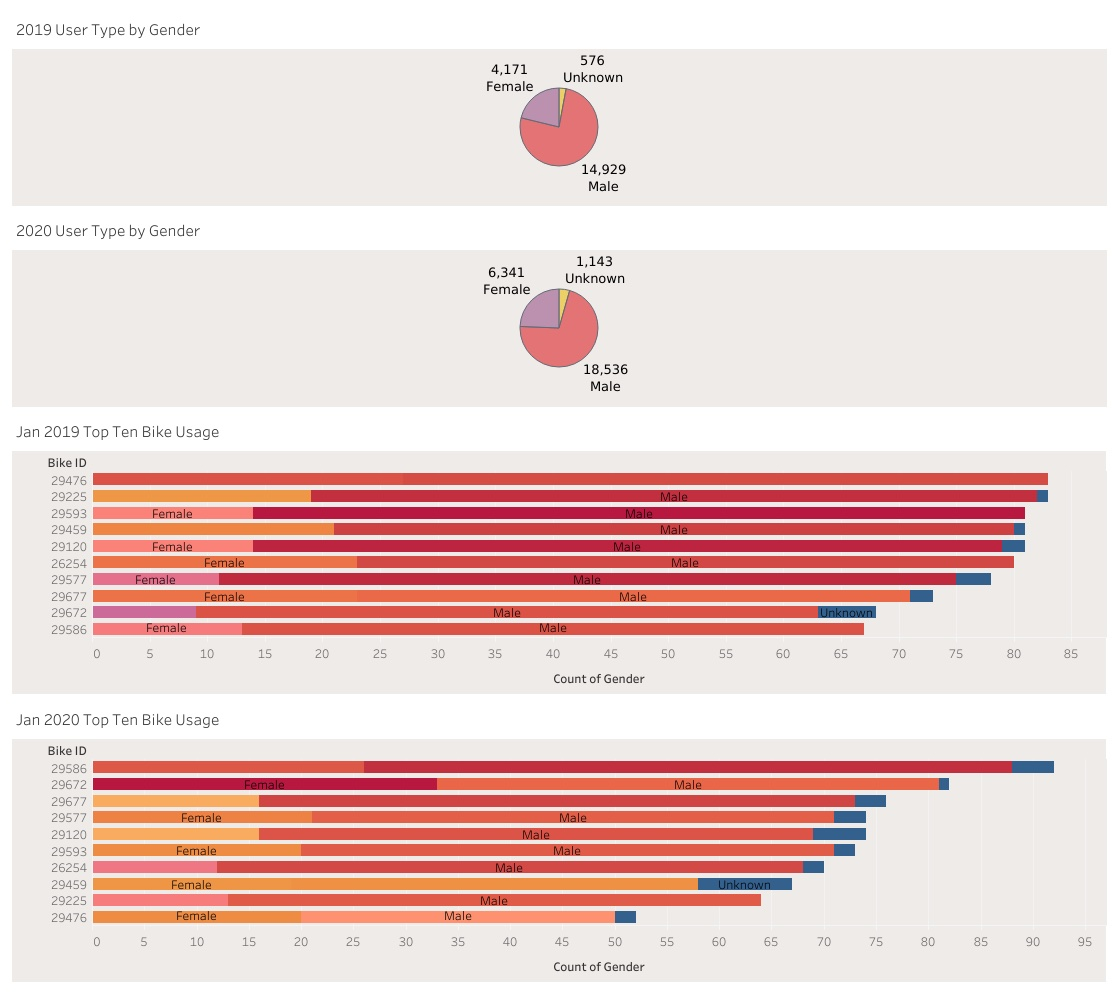

The page's visual inventory and layout, read from the dashboard file:
{"tool":"tableau","page":{"name":"Gender Analysis","canvas":[650,860],"ordinal":1},"visuals":[{"type":"worksheet","box":[0,0,650,860]},{"type":"worksheet","param":"horz","box":[8,8.5,634,843]},{"type":"worksheet","param":"horz","box":[8,8.5,634,843]},{"type":"worksheet","param":"horz","box":[8,8.5,634,843]},{"type":"worksheet","box":[8,8.5,634,843]},{"type":"worksheet","param":"horz","box":[8,8.5,634,524.8]},{"type":"worksheet","param":"horz","box":[8,8.5,634,524.8]},{"type":"worksheet","param":"horz","box":[8,8.5,634,524.8]},{"type":"worksheet","box":[8,8.5,634,524.8]},{"type":"worksheet","title":"2019 Users - Gender ","mark":"Pie","box":[8,8.5,317,202.6]},{"type":"worksheet","title":"2020 Users - Gender","mark":"Pie","box":[325,8.5,317,202.6]},{"type":"worksheet","title":"Top Ten Bike Gender 2019","mark":"Automatic","rows":["Bike ID"],"cols":["Gender"],"box":[8,211.1,634,322.1]},{"type":"worksheet","title":"Top Ten Bike Gender 2020","mark":"Automatic","rows":["Bike ID"],"cols":["Gender"],"box":[8,533.3,634,318.2]}]}

Visuals, with their boxes on the page's 650x860 design canvas (x1, y1, x2, y2). These are canvas units, not pixel positions in the 1117x999 screenshot, which may show the page scaled, cropped or inside an application window:
worksheet: (x1=0, y1=0, x2=650, y2=860)
worksheet: (x1=8, y1=8, x2=642, y2=852)
worksheet: (x1=8, y1=8, x2=642, y2=852)
worksheet: (x1=8, y1=8, x2=642, y2=852)
worksheet: (x1=8, y1=8, x2=642, y2=852)
worksheet: (x1=8, y1=8, x2=642, y2=533)
worksheet: (x1=8, y1=8, x2=642, y2=533)
worksheet: (x1=8, y1=8, x2=642, y2=533)
worksheet: (x1=8, y1=8, x2=642, y2=533)
"2019 Users - Gender " worksheet (Pie marks): (x1=8, y1=8, x2=325, y2=211)
"2020 Users - Gender" worksheet (Pie marks): (x1=325, y1=8, x2=642, y2=211)
"Top Ten Bike Gender 2019" worksheet: (x1=8, y1=211, x2=642, y2=533)
"Top Ten Bike Gender 2020" worksheet: (x1=8, y1=533, x2=642, y2=852)
